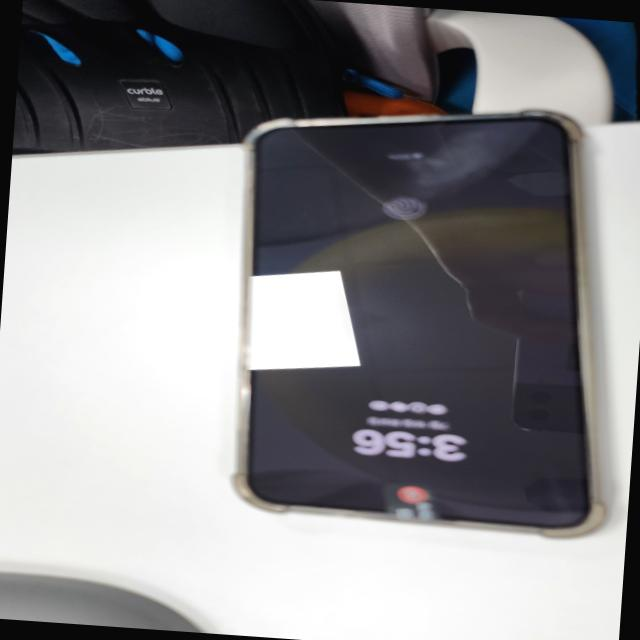phone: (216, 93, 628, 538)
sticker: (373, 478, 439, 524)
